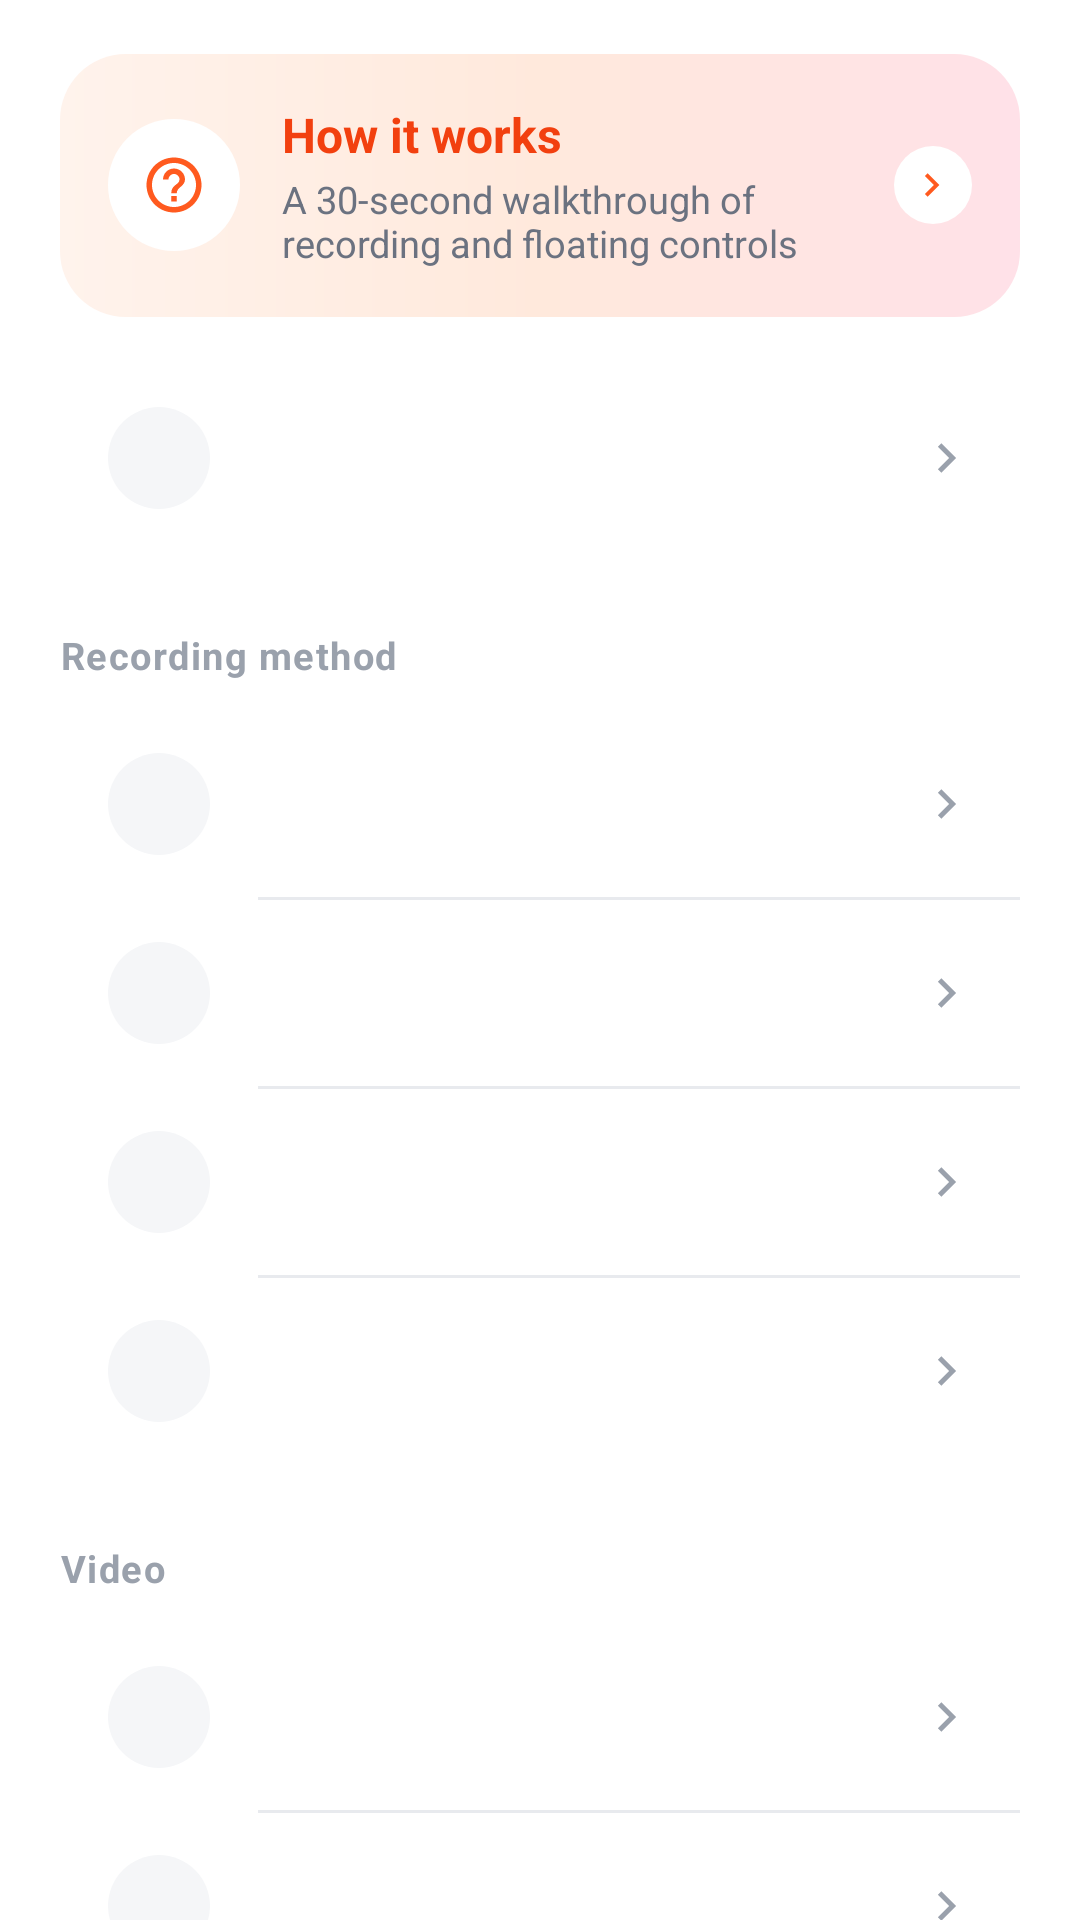

Where icons sit on this 1080px x 1920px app screen, as [x1, y1, x2, y2]:
help: [108, 119, 240, 251]
